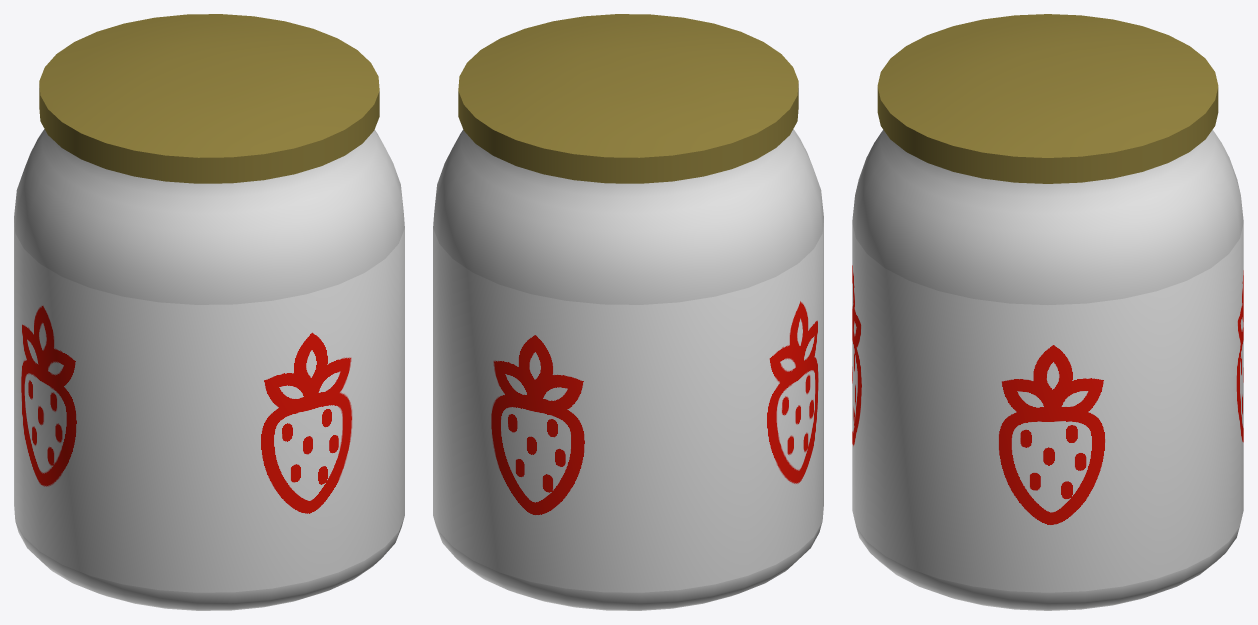
File: Jar_straw.fbx
3 views of the same model, side by side, from view 1: azimuth 30°, elevation 25°; view 2: azimuth 150°, elevation 25°; view 3: azimuth 270°, elevation 25° (orthographic).
Parts seen in each view (by area): view 1: Jar_straw; view 2: Jar_straw; view 3: Jar_straw.
Part boxes in pixels (box(x1,y1,x2,y2)): Jar_straw: box(14, 14, 404, 610); Jar_straw: box(433, 14, 823, 610); Jar_straw: box(852, 14, 1243, 610).
Size of the model in its own units: 26.9 by 26.9 by 35.8.
